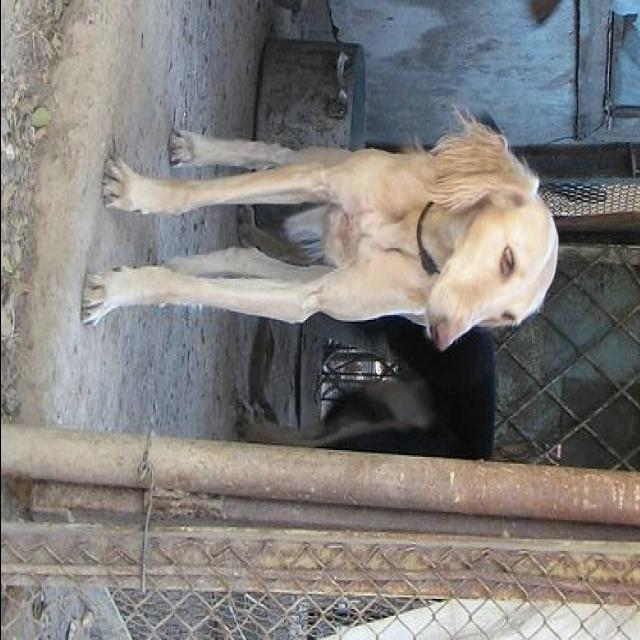saluki: (80, 120, 560, 354)
